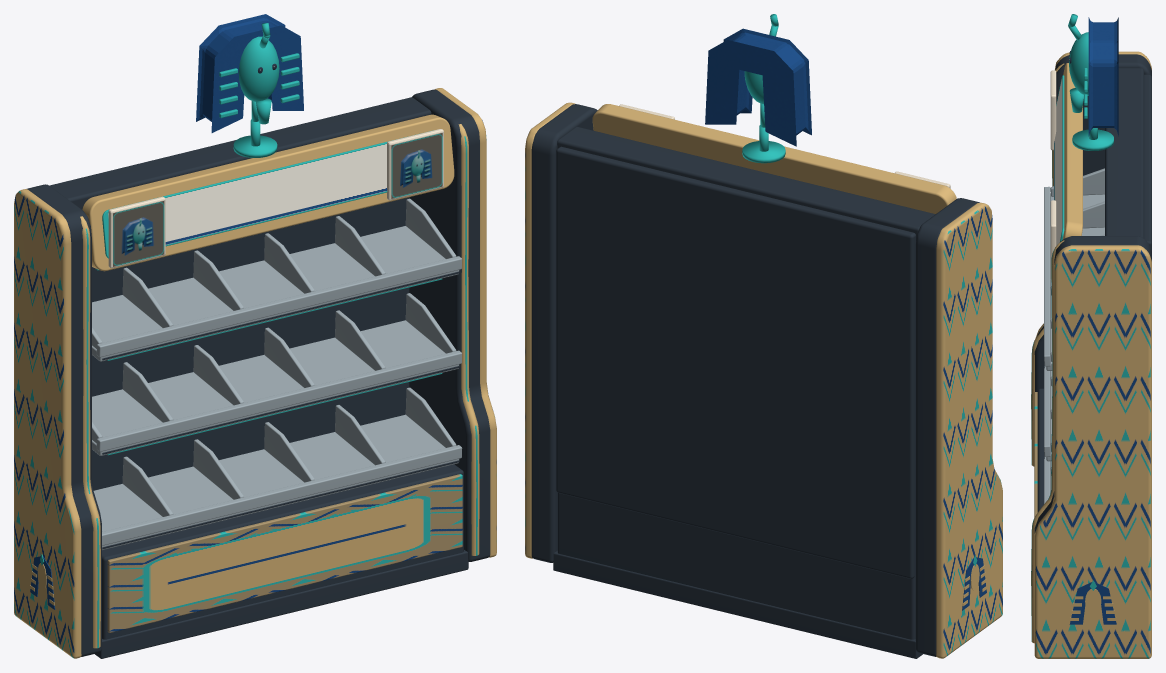
File: TH_ANCIENT_EGYPT.fbx
3 views of the same model, side by side, from view 1: azimuth 30°, elevation 25°; view 2: azimuth 150°, elevation 25°; view 3: azimuth 270°, elevation 25° (orthographic). The views are drawn at different scales.
Visible parts, largest first — view 1: BaseFrontInset, Left_PaintedPanel, BackPanel.001, Right_StructuralWall, Tray_02, Tray_01, Tray_03, HeaderFace, HeaderBorder, TopCrossRail, Left_StructuralWall, ClosedSolidBase (+34 smaller); view 2: BackPanel.001, Left_PaintedPanel, ClosedSolidBase, Right_StructuralWall, HeaderBorder, Left_StructuralWall, TopCrossRail, Nemes headdress, LowerPlinth, Right_PaintedPanel, TopperMount; view 3: Right_PaintedPanel, TopCrossRail, Nemes headdress, HeaderBorder, Left_StructuralWall, HeaderFace, RightHousing, BackPanel.001, FrontLip_01, Right_StructuralWall, Pharaoh face, ClosedSolidBase (+15 smaller).
Part boxes in pixels (box(x1,y1,x2,y2)): BaseFrontInset: box(107, 474, 462, 632); Left_PaintedPanel: box(14, 189, 81, 658); BackPanel.001: box(92, 197, 409, 490); Right_StructuralWall: box(409, 89, 490, 561); Tray_02: box(92, 320, 459, 455); Tray_01: box(92, 226, 459, 361); Tray_03: box(93, 414, 459, 550); HeaderFace: box(102, 130, 433, 258); HeaderBorder: box(82, 114, 454, 271); TopCrossRail: box(49, 97, 431, 209); Left_StructuralWall: box(27, 184, 101, 656); ClosedSolidBase: box(102, 464, 463, 639); BackPanel.001: box(556, 146, 915, 578); Left_PaintedPanel: box(936, 202, 1002, 658); ClosedSolidBase: box(557, 493, 915, 639); Right_StructuralWall: box(531, 104, 597, 562); HeaderBorder: box(592, 104, 956, 213); Left_StructuralWall: box(915, 198, 979, 656); TopCrossRail: box(557, 126, 935, 240); Nemes headdress: box(705, 28, 811, 146); LowerPlinth: box(553, 551, 922, 658); Right_PaintedPanel: box(525, 102, 575, 558); TopperMount: box(742, 141, 785, 163); Right_PaintedPanel: box(1034, 245, 1151, 658); TopCrossRail: box(1105, 68, 1143, 238); Nemes headdress: box(1088, 17, 1118, 136); HeaderBorder: box(1063, 63, 1082, 239); Left_StructuralWall: box(1034, 54, 1151, 391); HeaderFace: box(1054, 75, 1064, 245); RightHousing: box(1031, 240, 1064, 643); BackPanel.001: box(1144, 74, 1151, 251); FrontLip_01: box(1044, 186, 1050, 366); Right_StructuralWall: box(1034, 236, 1151, 533); Pharaoh face: box(1069, 32, 1088, 95); ClosedSolidBase: box(1037, 388, 1043, 512).
Size of the model in its own units: 3.62 by 4.68 by 0.9273.
